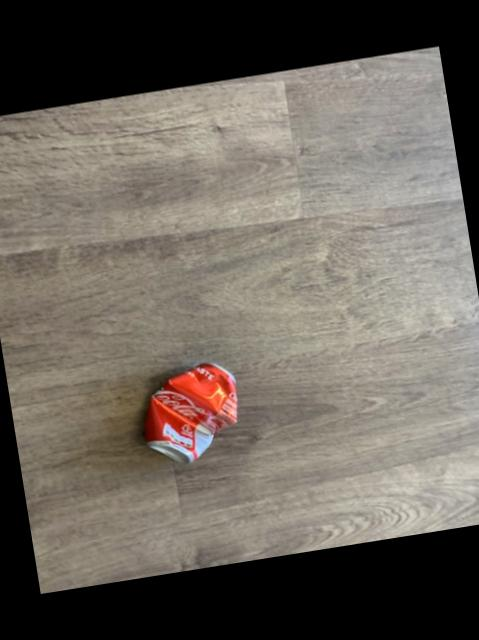metal: (142, 366, 234, 465)
